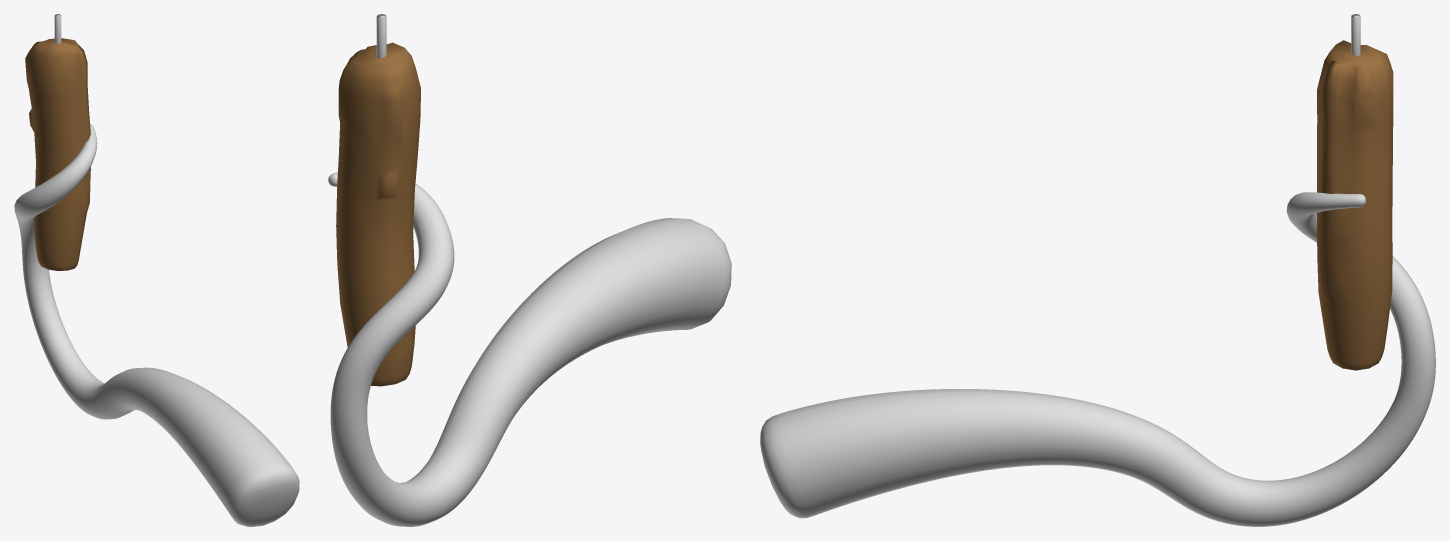
The model's file is CandleWithBranchEmbeddedTextures.fbx.
The picture shows the model from 3 angles, left to right: view 1: azimuth 30°, elevation 25°; view 2: azimuth 150°, elevation 25°; view 3: azimuth 270°, elevation 25°; orthographic projection. The views are drawn at different scales.
Parts seen in each view (by area): view 1: BezierCurve, Cylinder; view 2: BezierCurve, Cylinder; view 3: BezierCurve, Cylinder.
Boxes of the visible parts, x1,y1,x2,y2 form: BezierCurve: (14,123,299,526); Cylinder: (25,14,90,270); BezierCurve: (328,172,731,526); Cylinder: (336,14,420,386); BezierCurve: (760,192,1435,526); Cylinder: (1317,14,1393,370).
Size of the model in its own units: 69.79 by 328 by 395.
